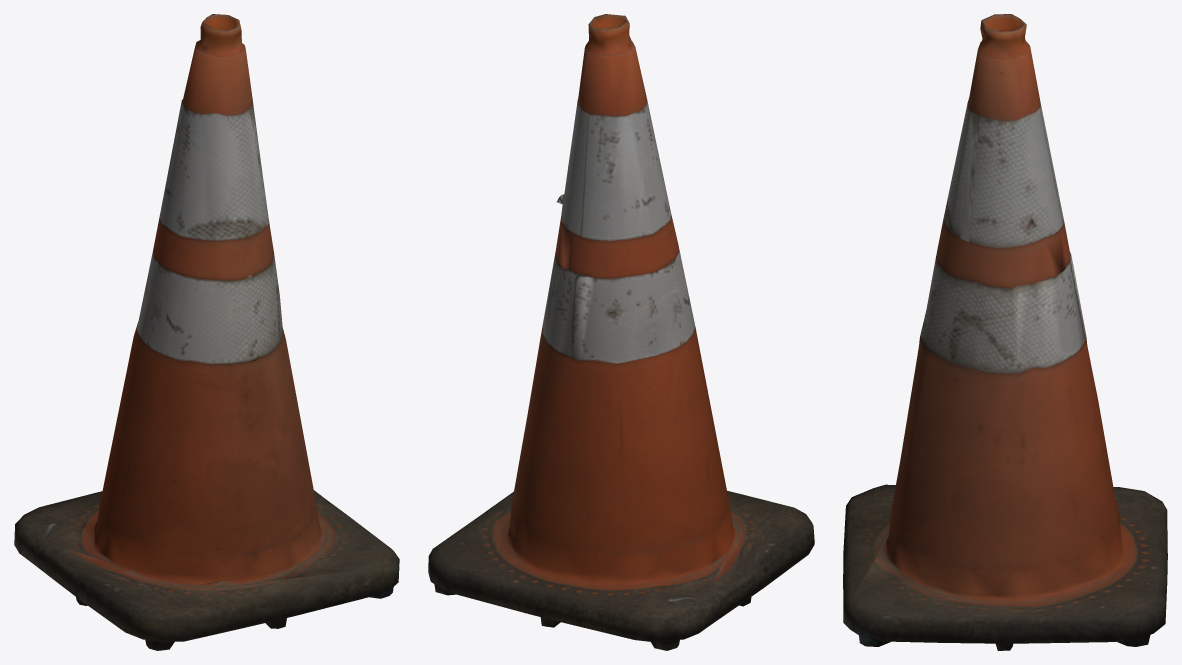
3 renders of one model, left to right at view 1: azimuth 30°, elevation 25°; view 2: azimuth 150°, elevation 25°; view 3: azimuth 270°, elevation 25°, orthographic. The views are drawn at different scales.
Visible parts, largest first — view 1: Aset_other__M_uhrhabqfa_LOD0; view 2: Aset_other__M_uhrhabqfa_LOD0; view 3: Aset_other__M_uhrhabqfa_LOD0.
Part boxes in pixels (x1=…): Aset_other__M_uhrhabqfa_LOD0: x1=14, y1=14, x2=399, y2=650; Aset_other__M_uhrhabqfa_LOD0: x1=428, y1=14, x2=814, y2=650; Aset_other__M_uhrhabqfa_LOD0: x1=843, y1=14, x2=1167, y2=650.
Bounding box in the file's own units: 0.3542 × 0.6878 × 0.3535.
1 material, 1 textured.
